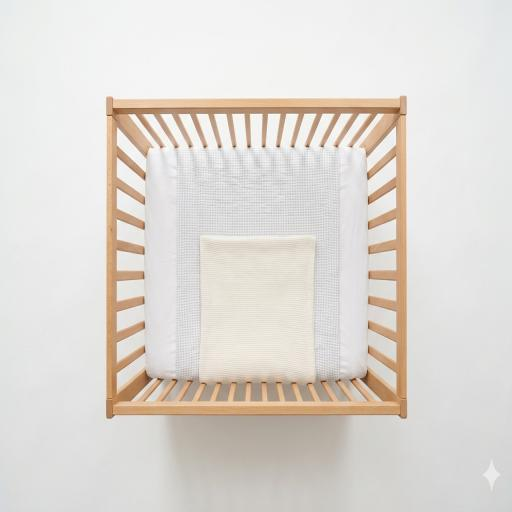crib: (107, 96, 406, 417)
